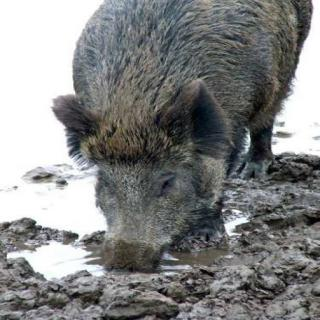Pig: (35, 0, 320, 275)
